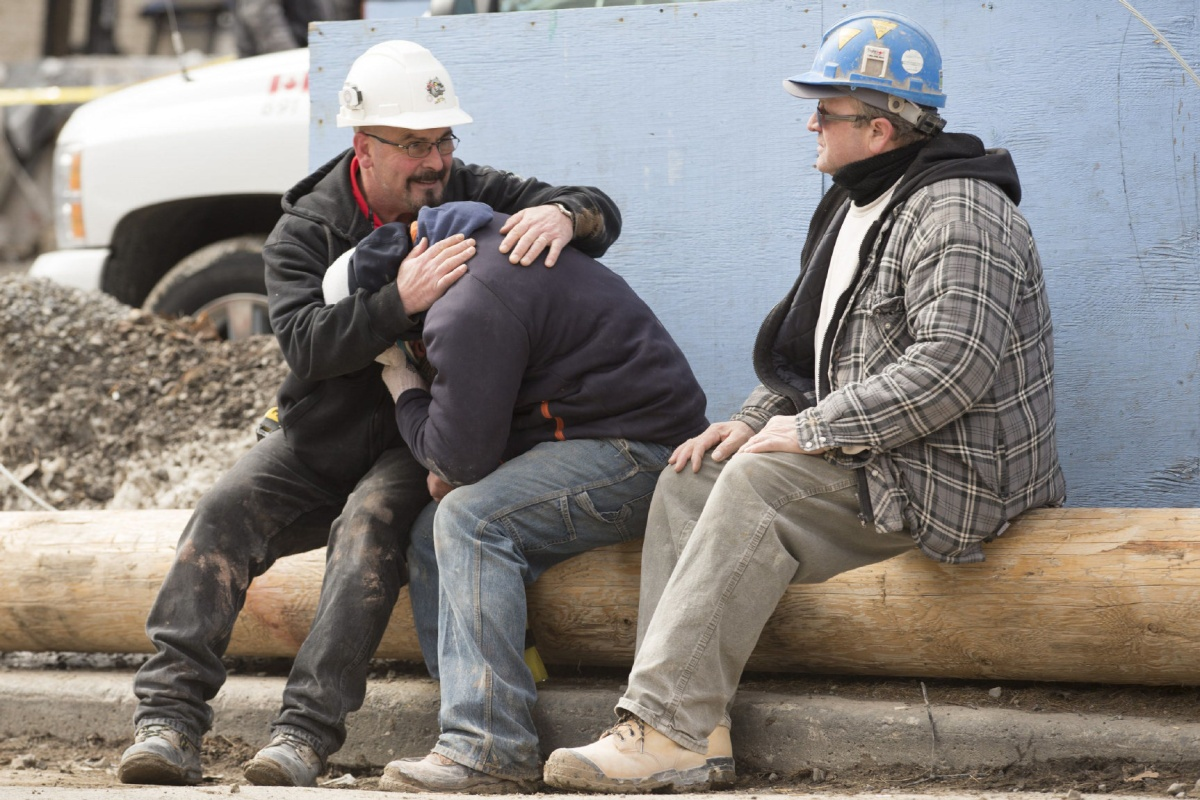blue: (812, 20, 942, 174)
white: (339, 41, 460, 204)
